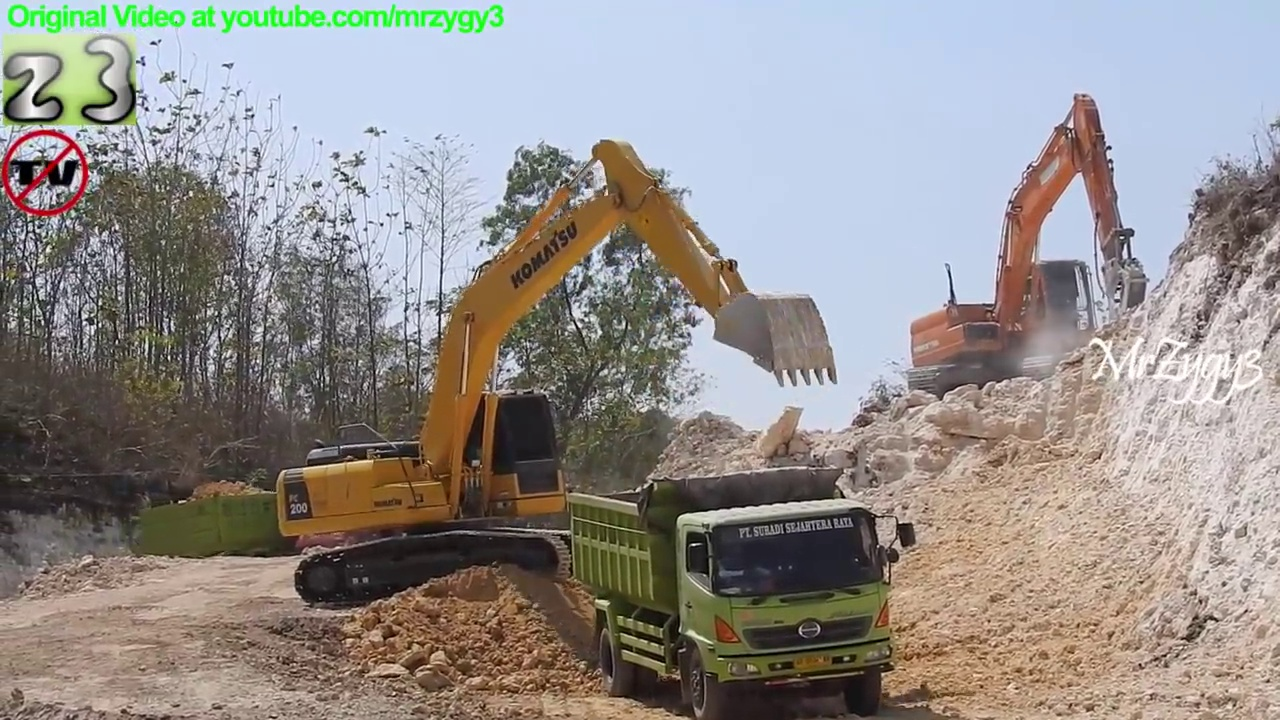excavator: (903, 88, 1153, 407)
truck: (274, 134, 846, 609), (564, 457, 924, 720), (131, 475, 389, 582)
